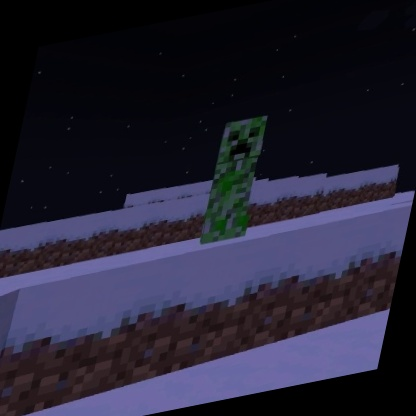creeper: (195, 109, 275, 249)
